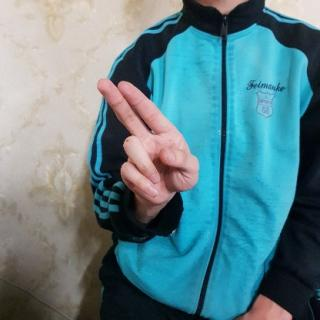TA: (95, 71, 205, 214)
